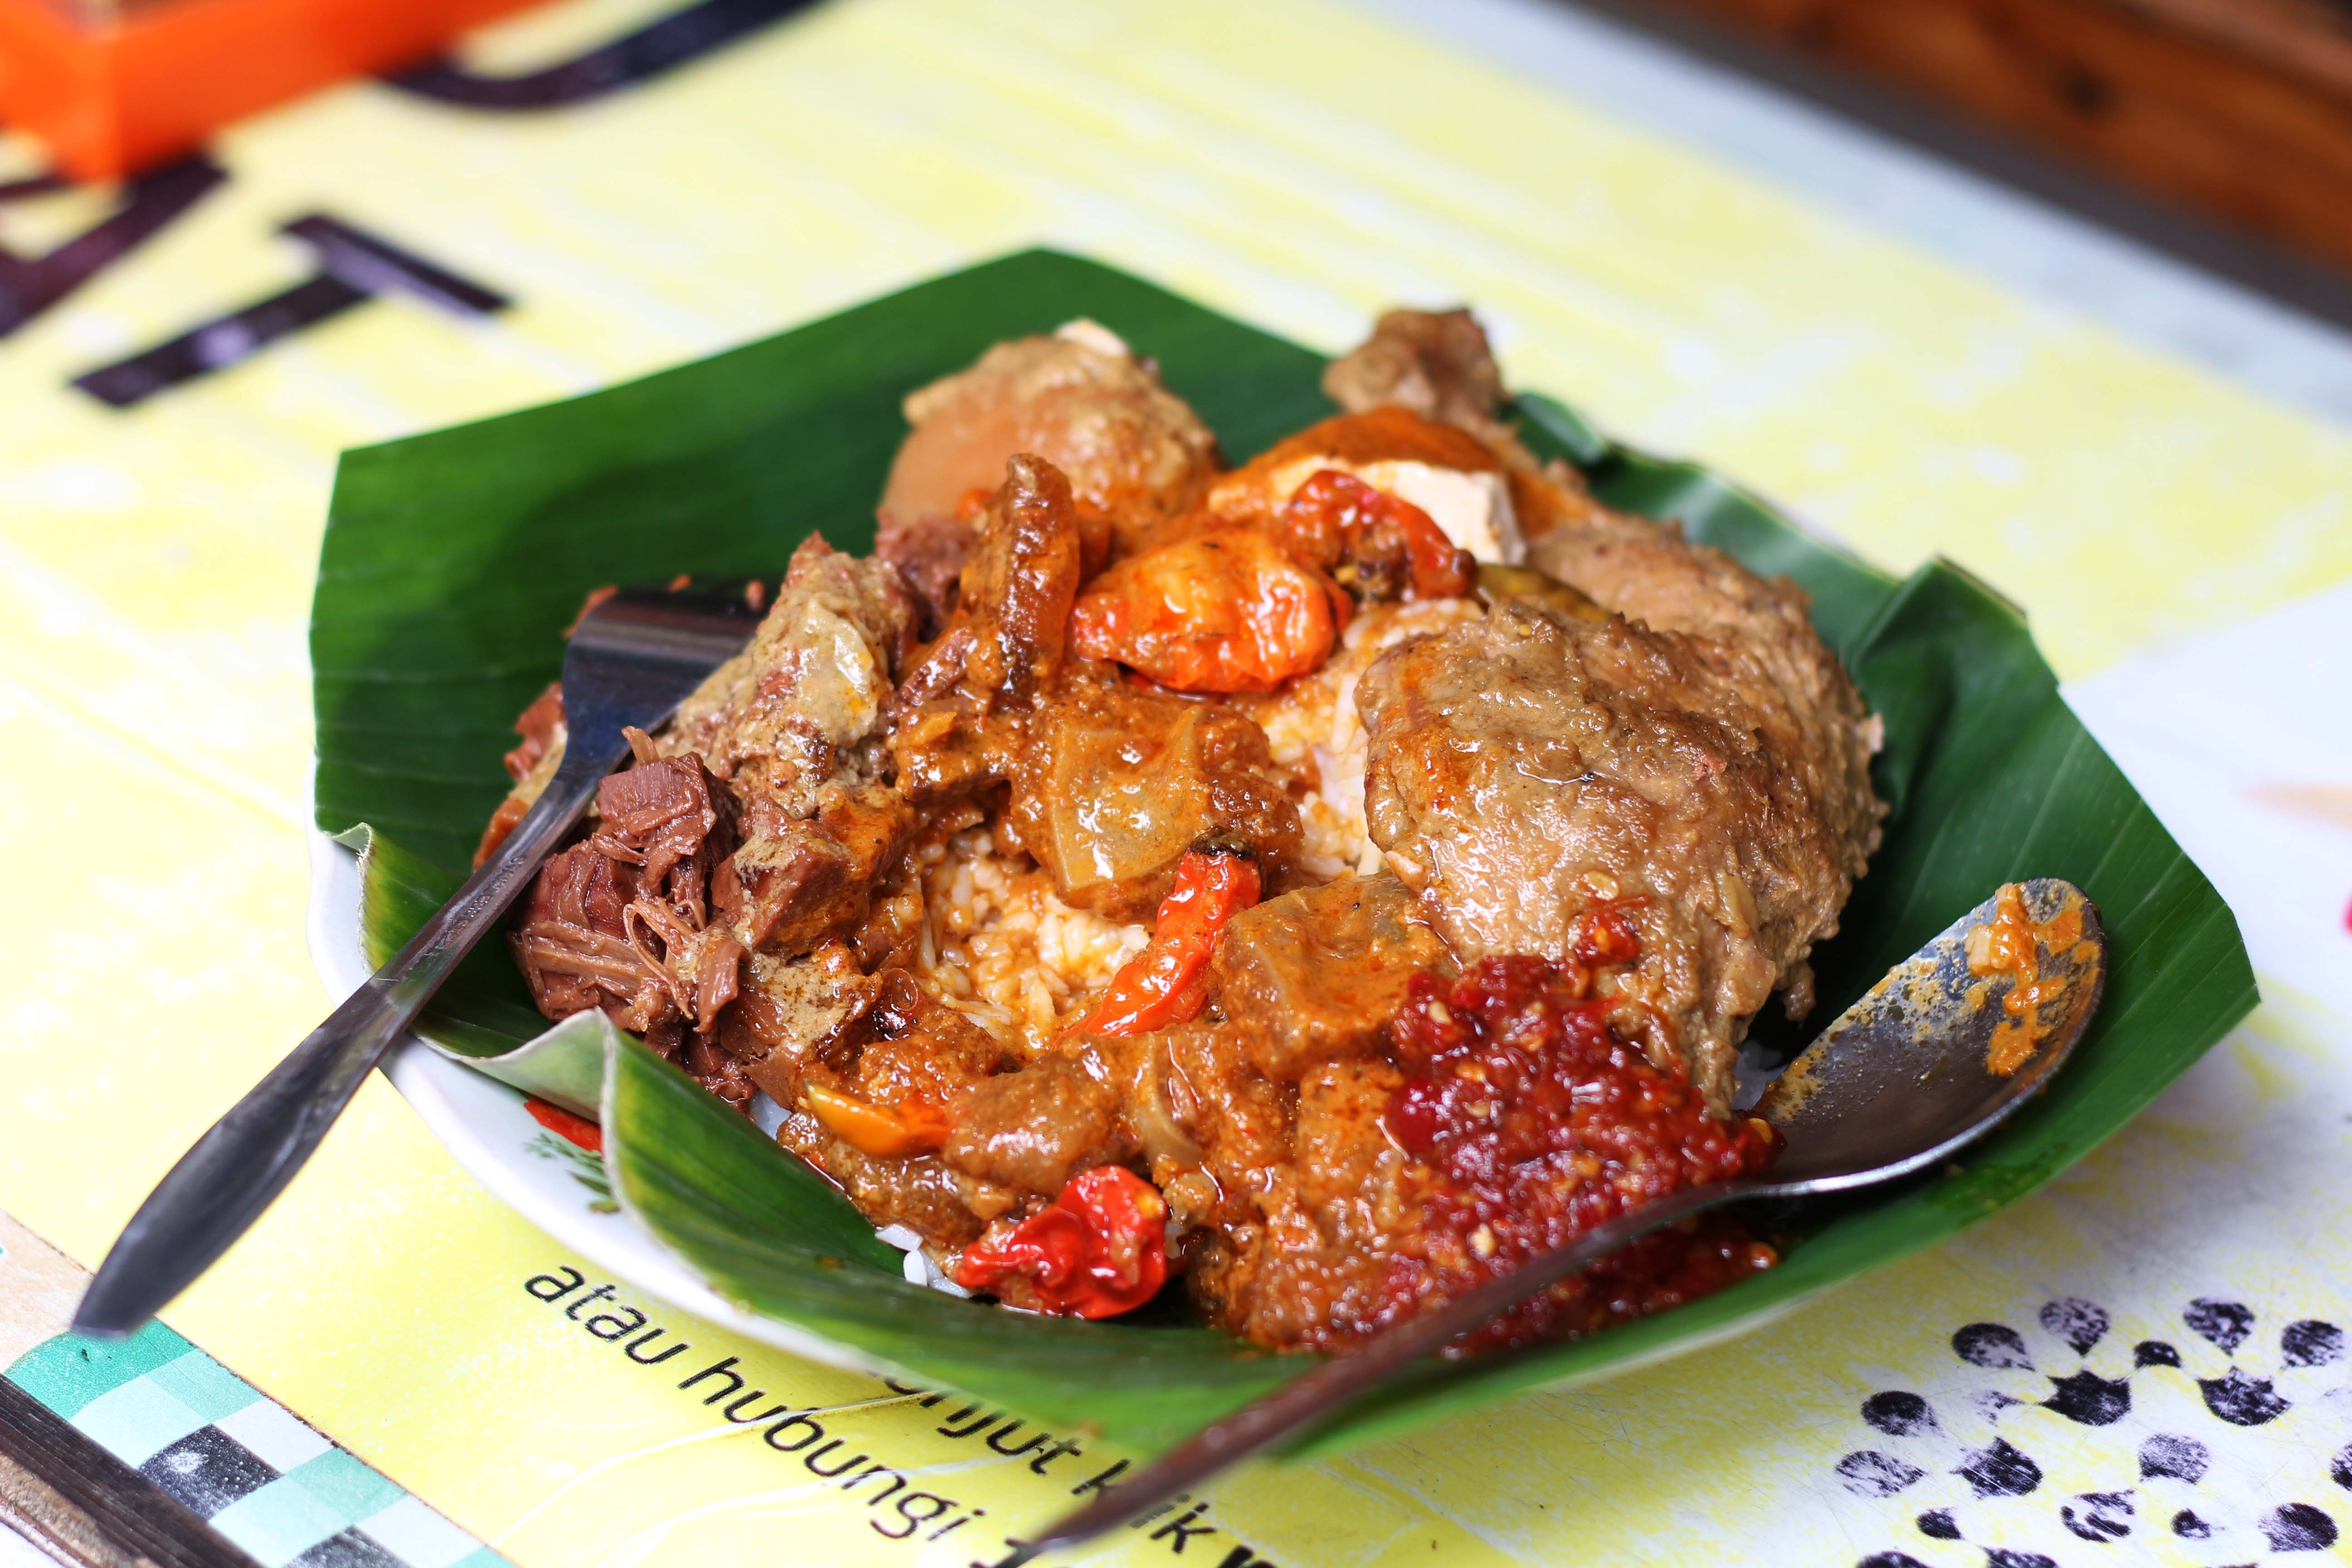gudeg: (439, 313, 2018, 1344)
